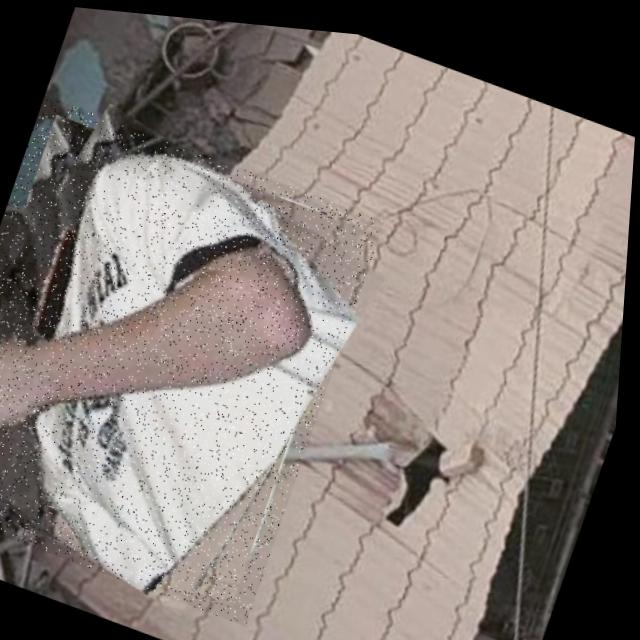Person in Rubble: (0, 89, 391, 627)
